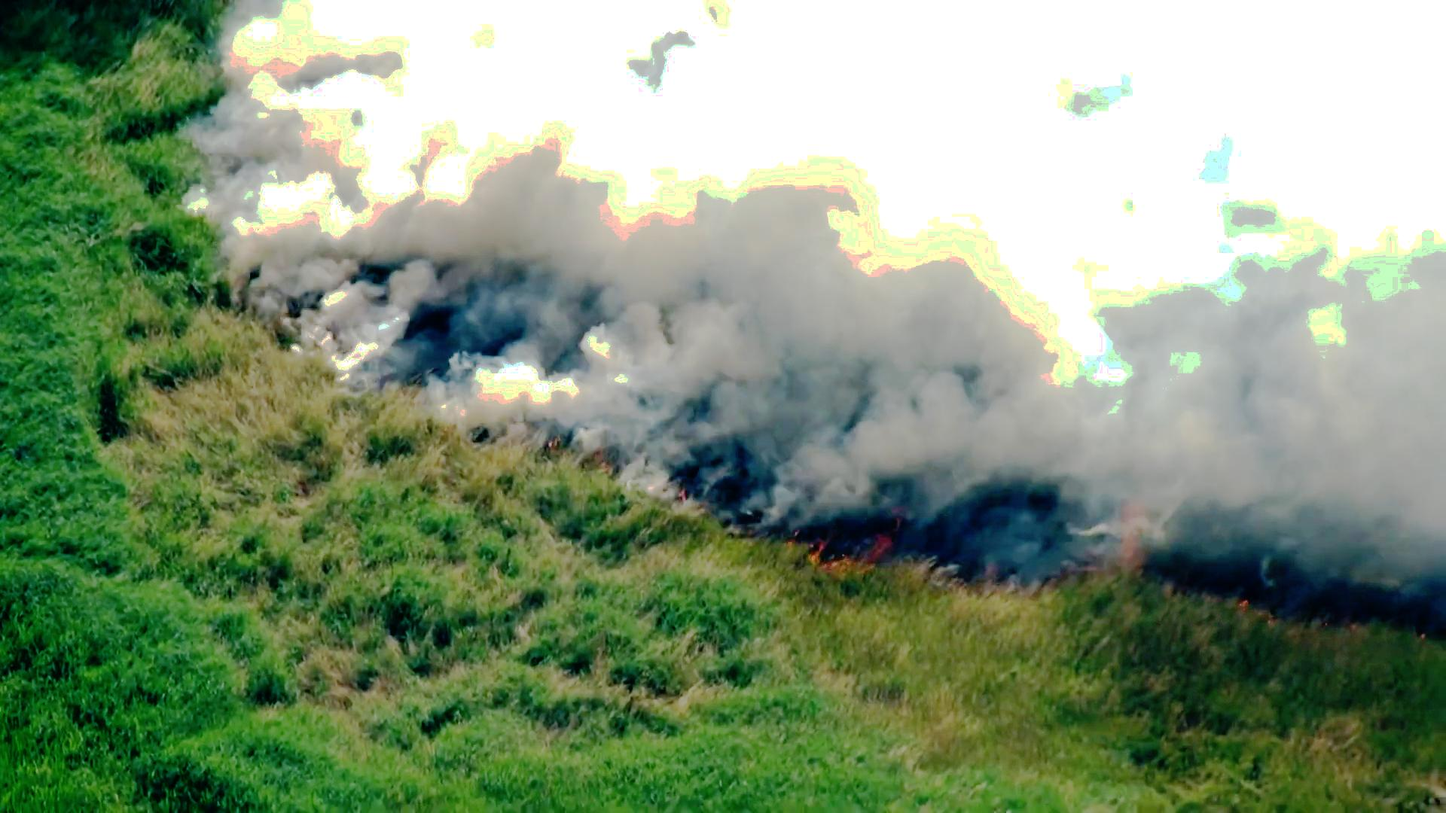smoke: (929, 266, 1446, 612), (448, 198, 1004, 487), (258, 0, 533, 366)
